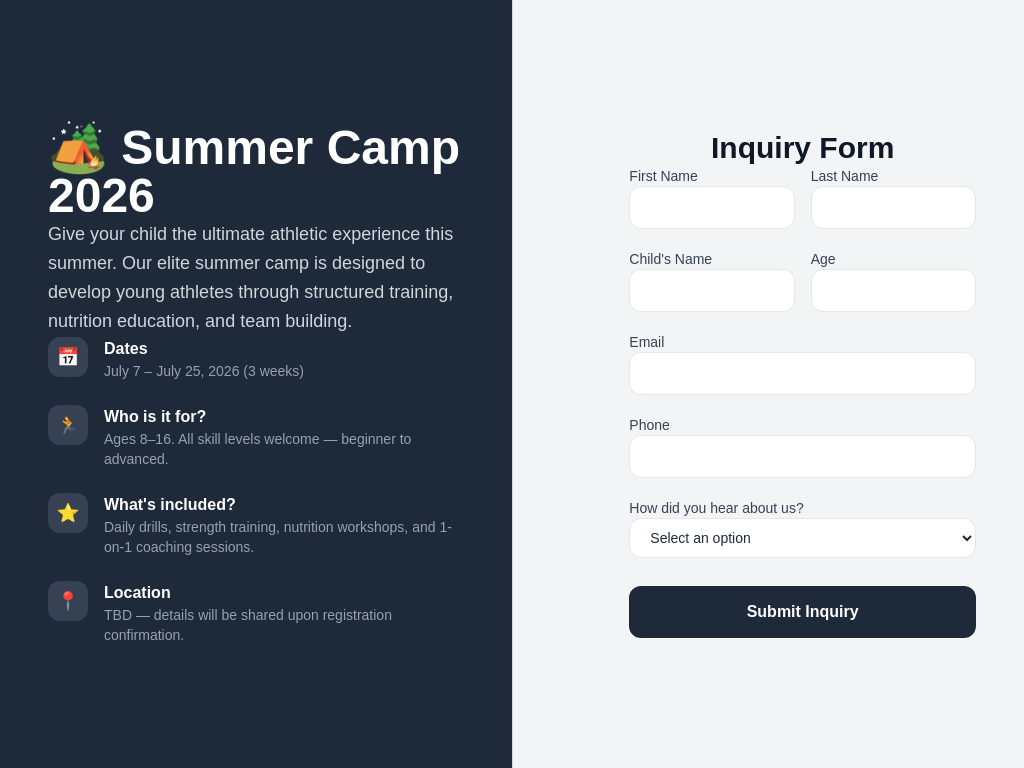
Test: SummerCamp Page › shows success screen after successful submission
The image size is (1024, 768).
Type "12" into the number field named "age" at (893, 291), box [811,269,976,312]
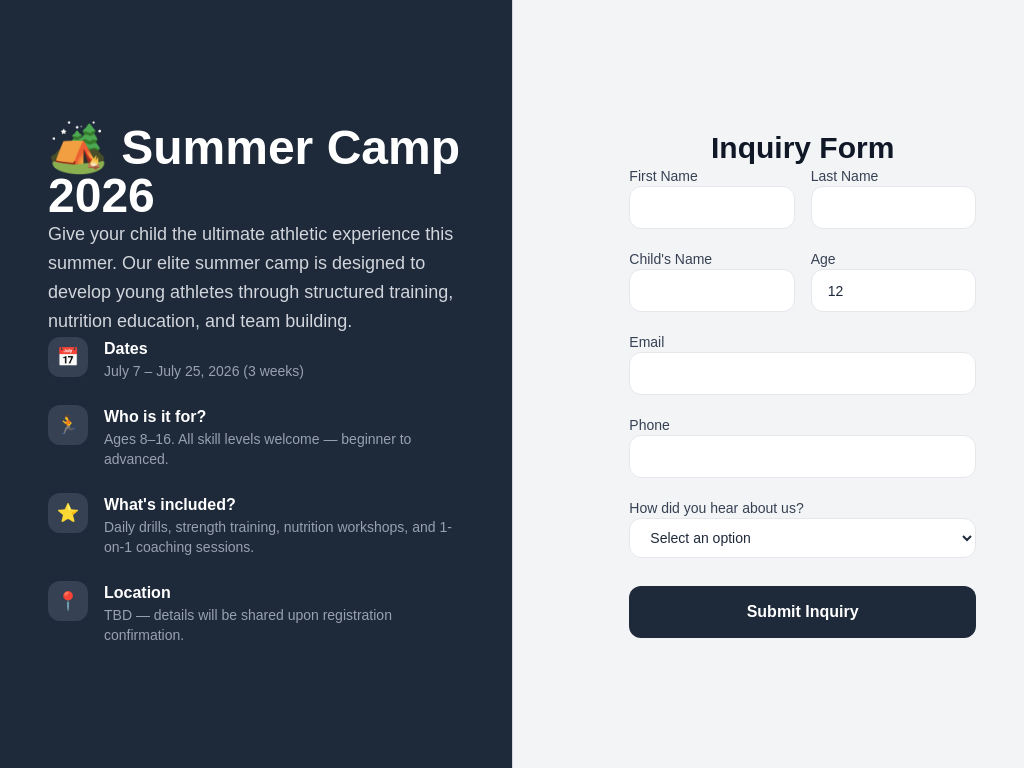
Submit the form, box [629,166,976,638]
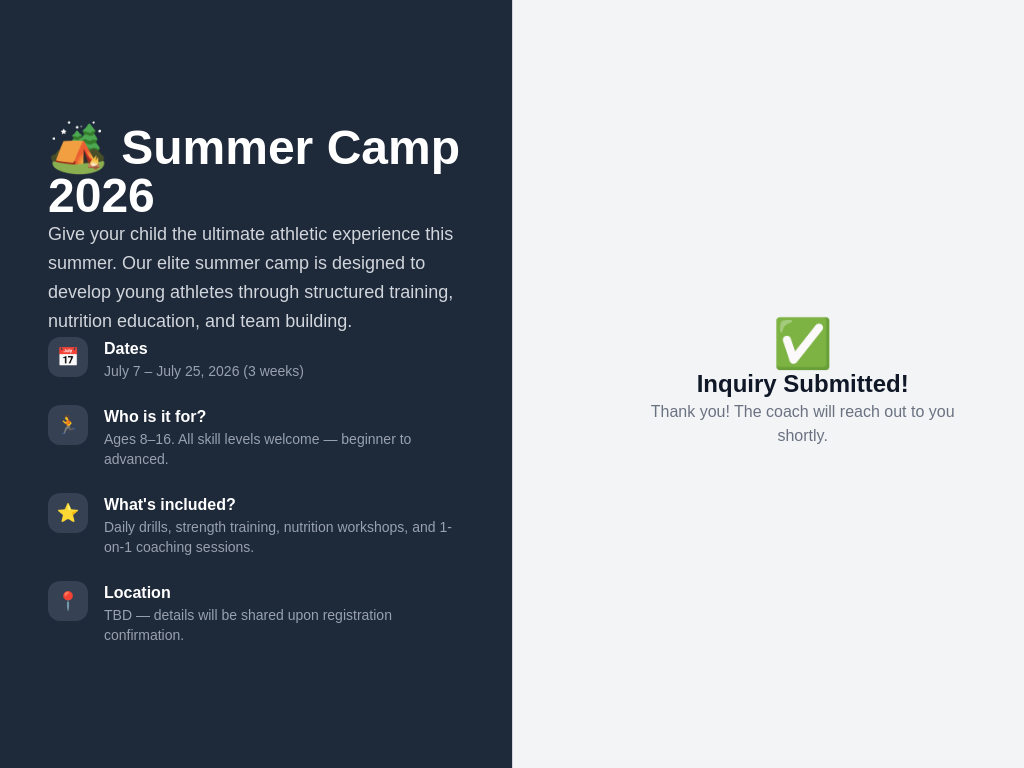
Expected: the heading "Inquiry Submitted!" is shown, [697,370,909,397]
